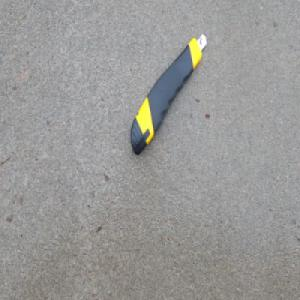Cutter: (130, 32, 208, 157)
